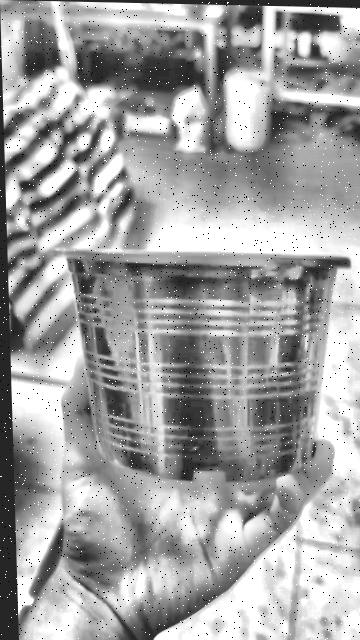pot: (56, 250, 349, 482)
